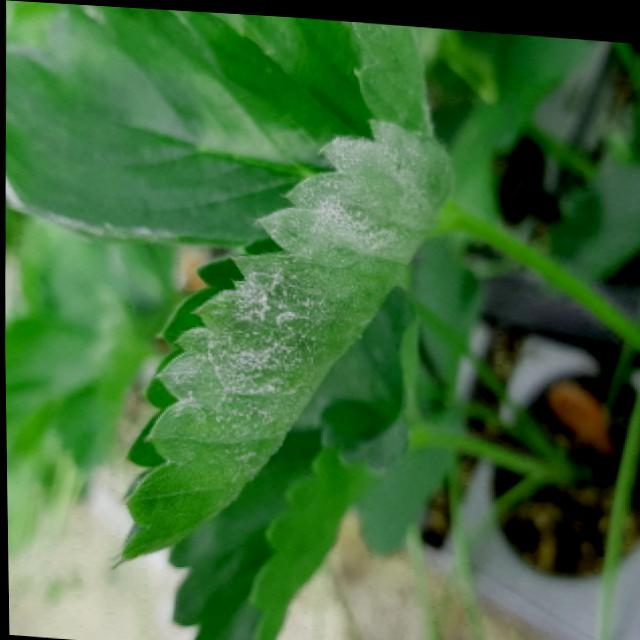Powdery Mildew Leaf: (109, 112, 454, 568), (4, 3, 363, 247), (232, 11, 434, 133)
